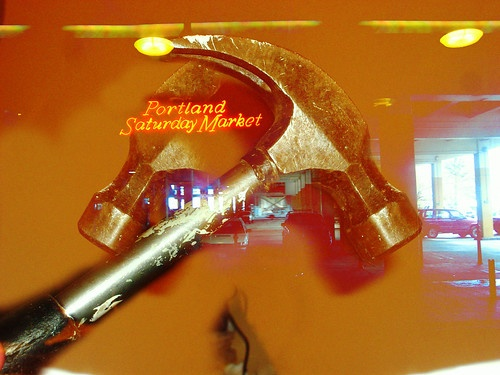hammer: (11, 31, 425, 374)
